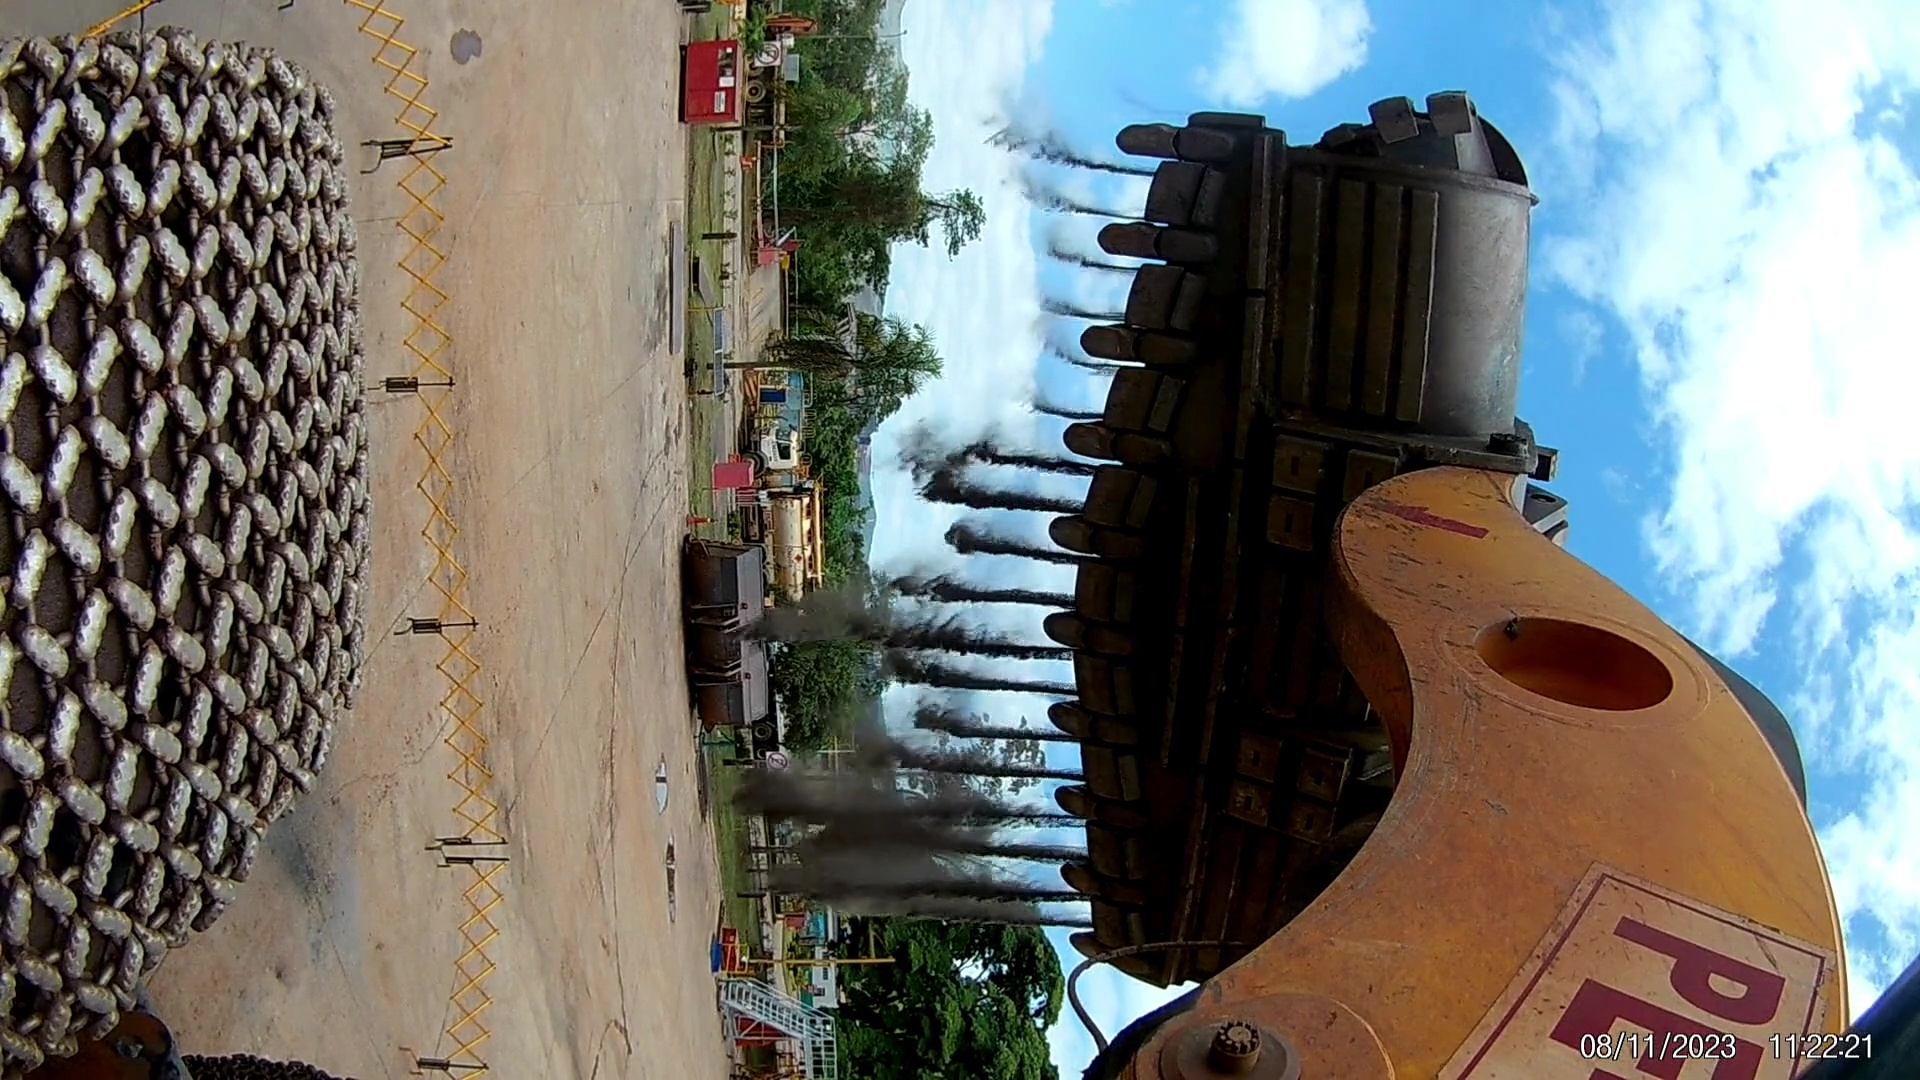FPS: (1065, 301, 1182, 375), (1089, 222, 1218, 284), (1085, 127, 1230, 175), (1025, 694, 1147, 750), (1033, 516, 1158, 568), (1023, 607, 1131, 667), (1039, 841, 1127, 910), (1036, 781, 1135, 841), (1033, 434, 1170, 472), (1065, 922, 1125, 986)
